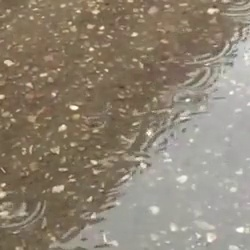drop: (1, 191, 45, 231), (167, 89, 202, 109), (81, 111, 106, 131)
